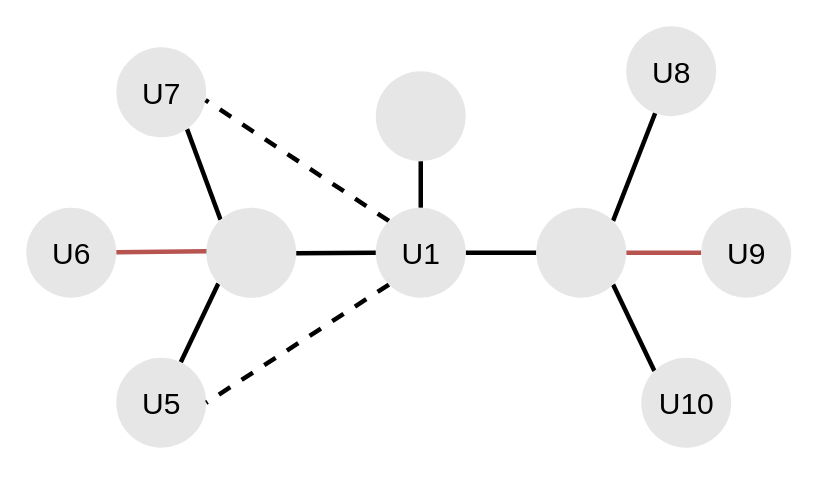
The diagram is 816 pixels wide and 492 high, and some of its shapes have lost their labels. The centre of each missing label's shape, as x and y in pixels:
U2: point (250, 252)
U3: point (420, 115)
U4: point (581, 252)
